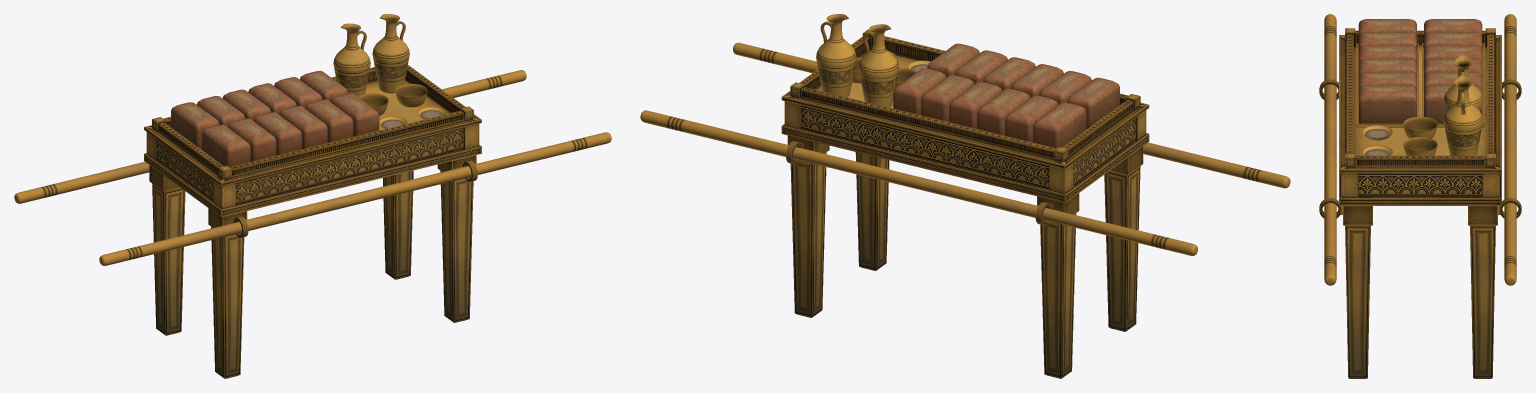
Rendered from SM_TableShowbread.glb.
3 views of the same model, side by side, from view 1: azimuth 30°, elevation 25°; view 2: azimuth 150°, elevation 25°; view 3: azimuth 270°, elevation 25° (orthographic). The views are drawn at different scales.
Parts seen in each view (by area): view 1: SM_Showbread_Structure, SM_Showbread_Vessels; view 2: SM_Showbread_Structure, SM_Showbread_Vessels; view 3: SM_Showbread_Structure, SM_Showbread_Vessels.
Boxes of the visible parts, left/top/right/bottom form: SM_Showbread_Structure: left=14, top=65, right=611, bottom=378; SM_Showbread_Vessels: left=171, top=14, right=446, bottom=166; SM_Showbread_Structure: left=640, top=29, right=1290, bottom=378; SM_Showbread_Vessels: left=816, top=14, right=1119, bottom=148; SM_Showbread_Structure: left=1319, top=14, right=1521, bottom=378; SM_Showbread_Vessels: left=1356, top=19, right=1484, bottom=155.
Bounding box in the file's own units: 1.8 × 0.917 × 0.5847.
Materials: 2 (2 with a texture image).
